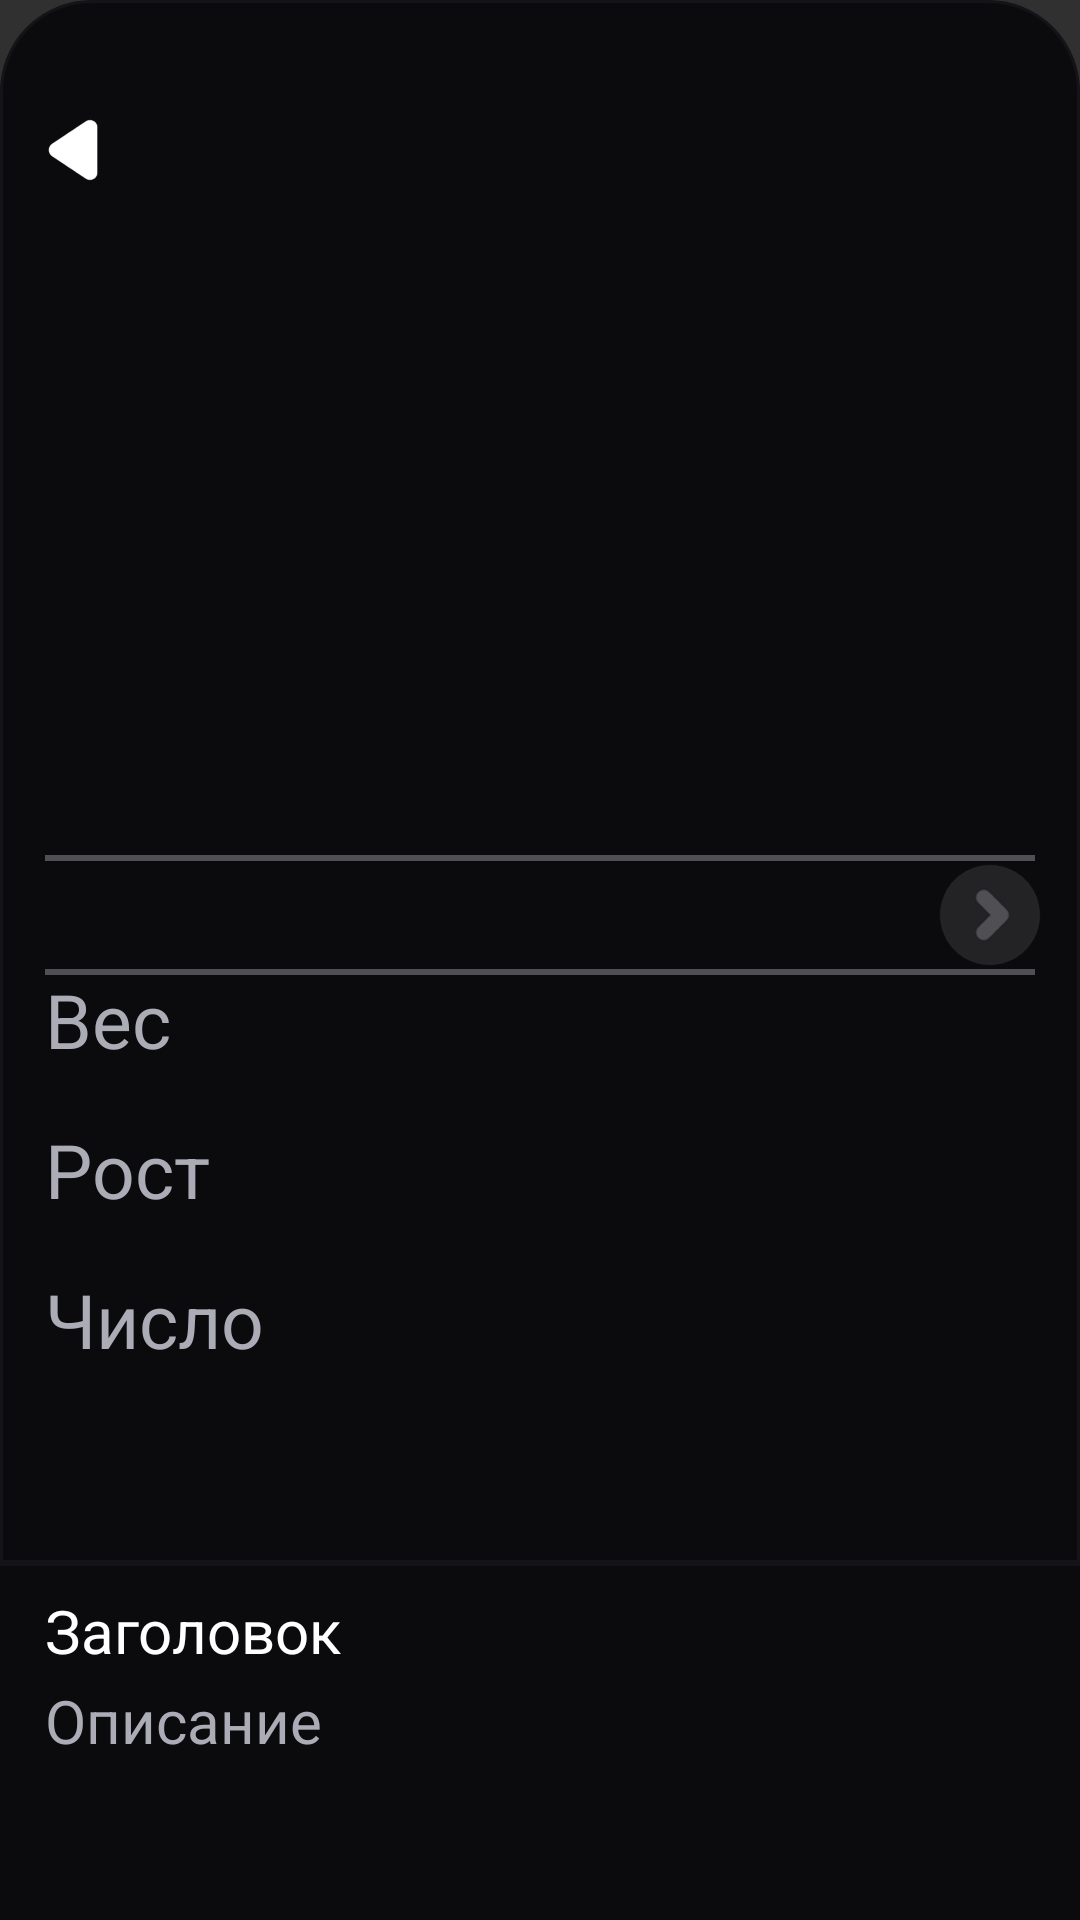

Point at icon controls on the screen. Image size 1080px×1920px, points as [x,y].
back: [73,150]
continue: [990,915]
